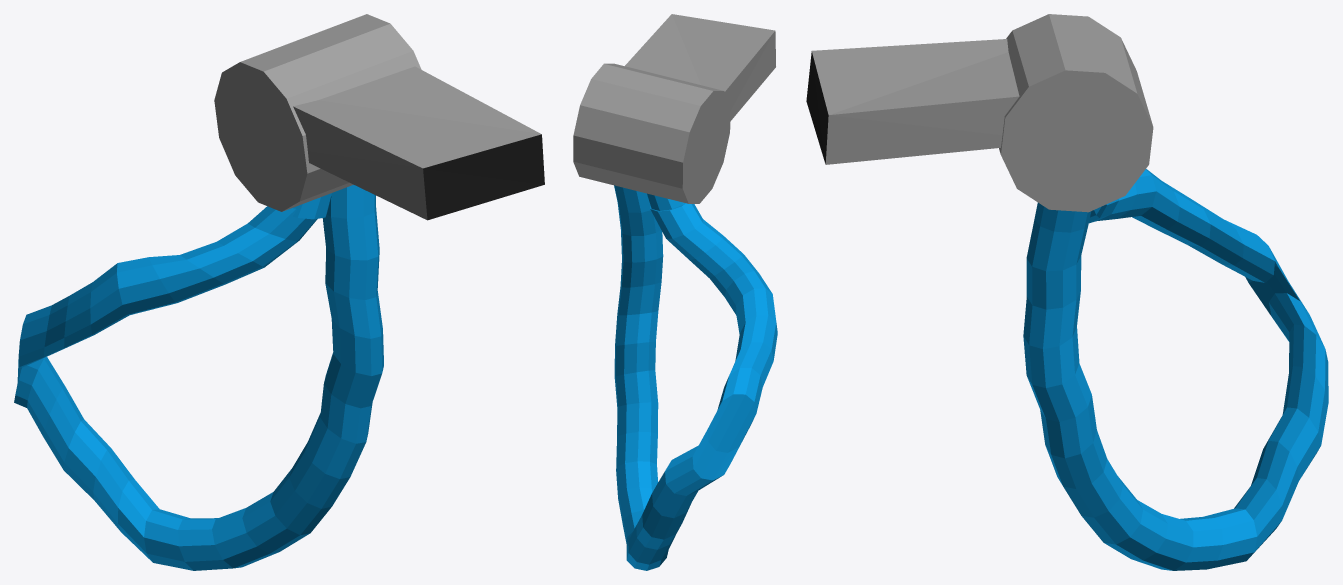
The picture shows the model from 3 angles, left to right: view 1: azimuth 30°, elevation 25°; view 2: azimuth 150°, elevation 25°; view 3: azimuth 270°, elevation 25°; orthographic projection. The views are drawn at different scales.
Visible parts, largest first — view 1: group_1713444330, mesh_1121236943, mesh_217707973; view 2: group_1713444330, mesh_217707973, mesh_1121236943, group_1671936746; view 3: group_1713444330, mesh_217707973, mesh_1121236943.
Part boxes in pixels (<box>): group_1713444330: <box>14,185,383,570</box>; mesh_1121236943: <box>293,66,544,220</box>; mesh_217707973: <box>214,14,421,211</box>; group_1713444330: <box>614,185,777,570</box>; mesh_217707973: <box>573,63,730,203</box>; mesh_1121236943: <box>625,14,775,121</box>; group_1671936746: <box>647,193,684,210</box>; group_1713444330: <box>1023,169,1328,570</box>; mesh_217707973: <box>999,14,1153,212</box>; mesh_1121236943: <box>806,39,1019,164</box>.
Bounding box in the file's own units: 39.73 × 67.52 × 57.19.
